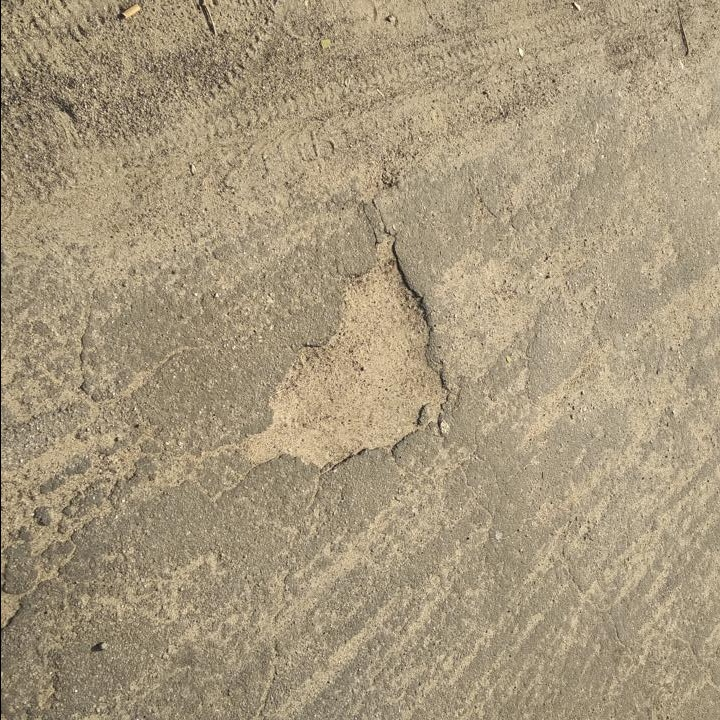pothole: (248, 226, 454, 477)
